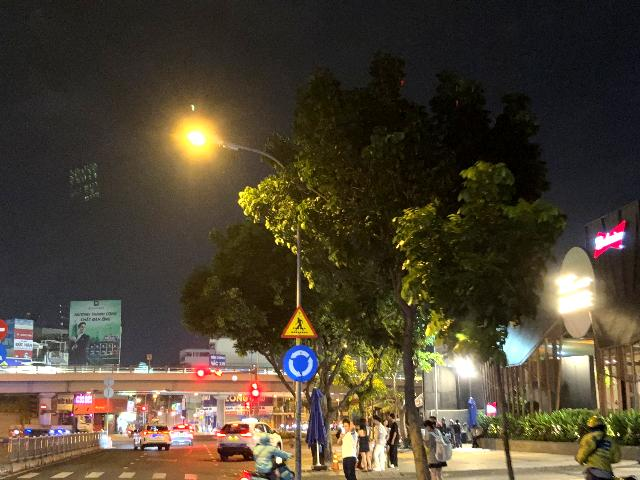duong-nguoi-di-bo-cat-ngang: (280, 304, 317, 339)
noi-giao-nhau-chay-theo-vong-xuyen: (283, 345, 317, 382)
